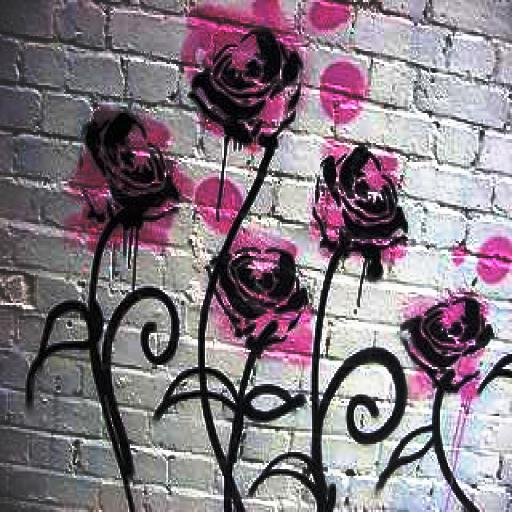rose: (192, 28, 306, 149), (206, 245, 309, 354), (312, 143, 408, 258), (85, 113, 179, 224), (396, 294, 494, 390)
